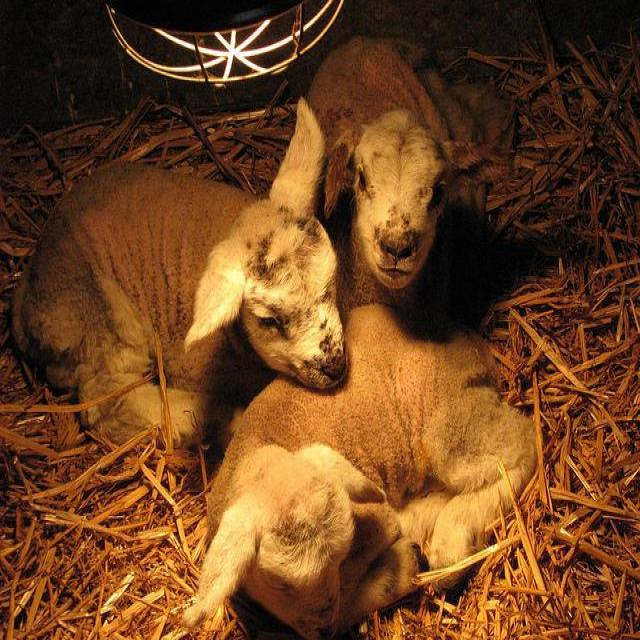Sheep: (19, 98, 347, 454), (184, 306, 541, 630), (303, 36, 518, 320)
